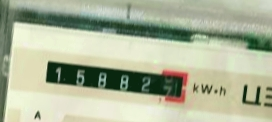1: (51, 63, 64, 82)
2: (139, 74, 152, 93)
5: (73, 67, 86, 86)
7: (160, 84, 173, 96)
8: (94, 69, 108, 88), (117, 71, 130, 91)
screen: (35, 48, 194, 111)
